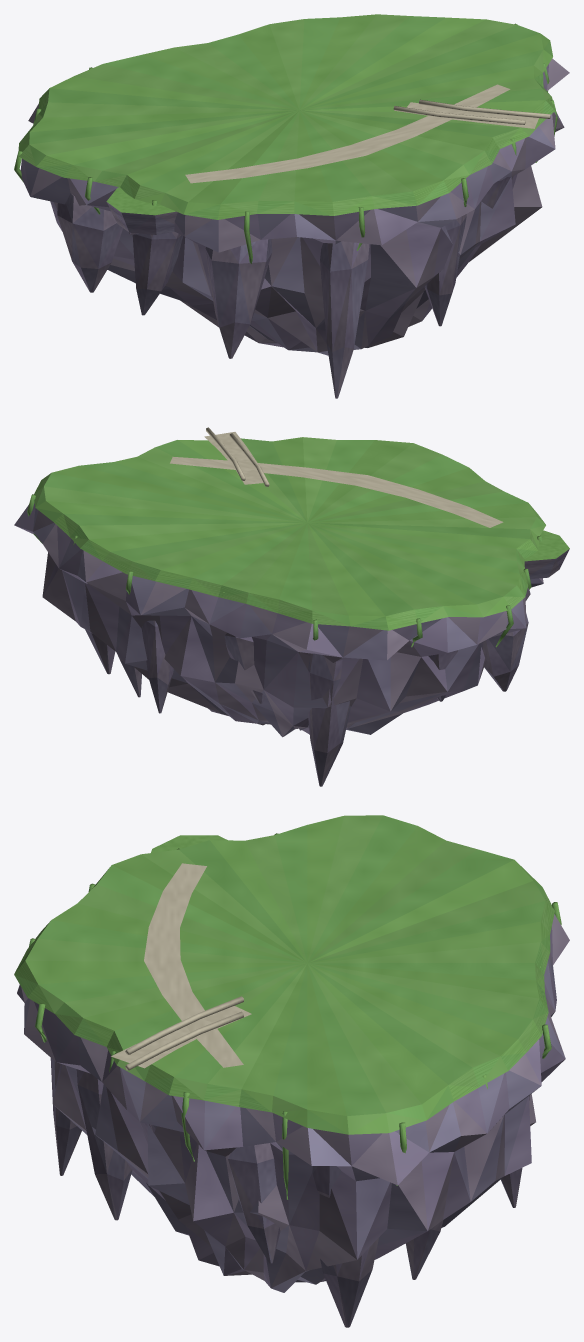
Rendered from foundation-island.glb.
The picture shows the model from 3 angles, top to bottom: view 1: azimuth 30°, elevation 25°; view 2: azimuth 150°, elevation 25°; view 3: azimuth 270°, elevation 25°; orthographic projection. The views are drawn at different scales.
Visible parts, largest first — view 1: foundation-island; view 2: foundation-island; view 3: foundation-island.
Part boxes in pixels (<box>): foundation-island: <box>14,14,569,398</box>; foundation-island: <box>14,427,569,786</box>; foundation-island: <box>14,815,569,1327</box>.
Size of the model in its own units: 17.55 by 7.54 by 12.83.
3 materials, 3 textured.
